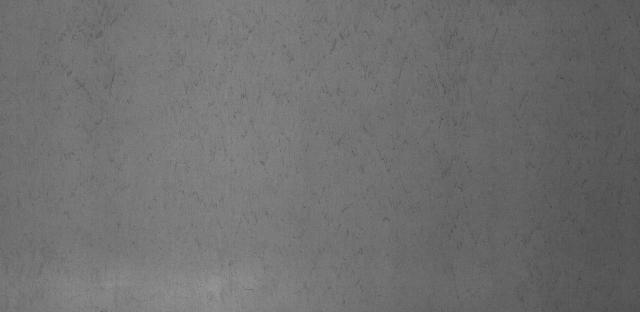silk_spot: (137, 31, 586, 272)
